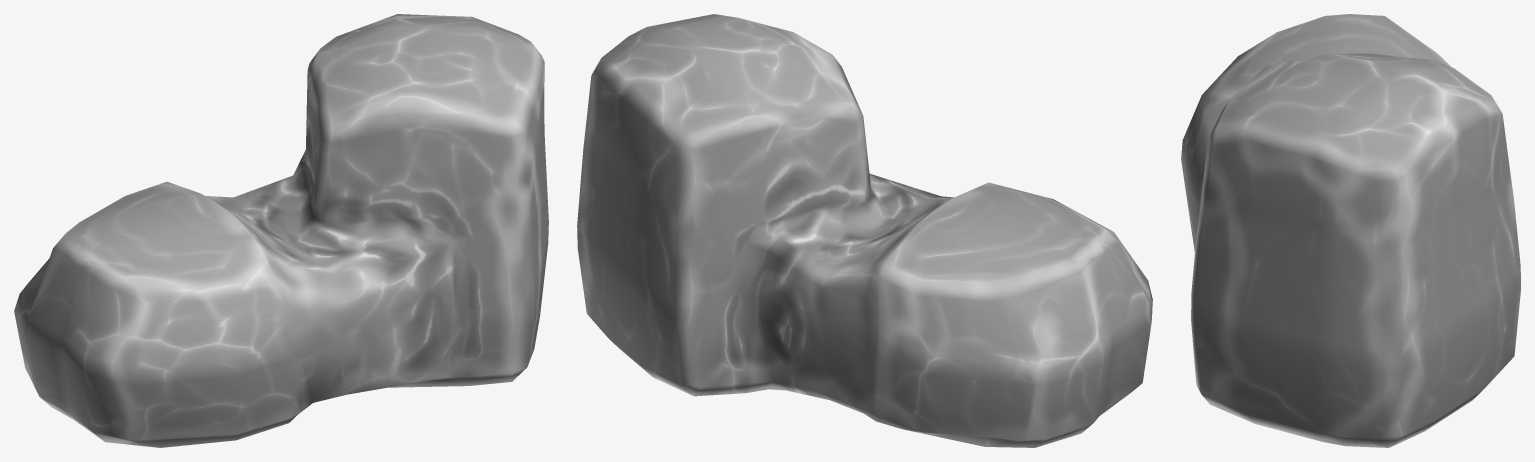
Rendered from roca12.fbx.
3 renders of one model, left to right at view 1: azimuth 30°, elevation 25°; view 2: azimuth 150°, elevation 25°; view 3: azimuth 270°, elevation 25°, orthographic. The views are drawn at different scales.
Visible parts, largest first — view 1: roca12; view 2: roca12; view 3: roca12.
Part boxes in pixels (x1=…): roca12: x1=14, y1=14, x2=548, y2=447; roca12: x1=577, y1=14, x2=1152, y2=447; roca12: x1=1181, y1=14, x2=1520, y2=447.
Bounding box in the file's own units: 29.4 × 16.86 × 15.52.
